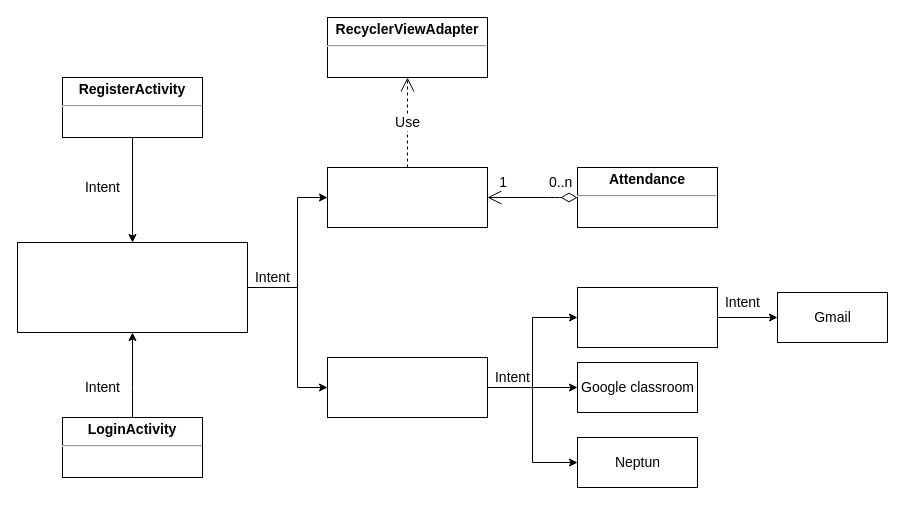
Some shapes in this 905 by 505 pixel diagram are drawn without their labels. The box of each missing label's shape, as (x1, y1, x2, y2) in pixels:
HistoryActivity: (326, 166, 488, 228)
OtherApps: (326, 356, 488, 418)
QrActivity + TextToImageEncode () : Bitmap: (16, 242, 248, 332)
SendEmailActivity: (576, 286, 718, 348)
